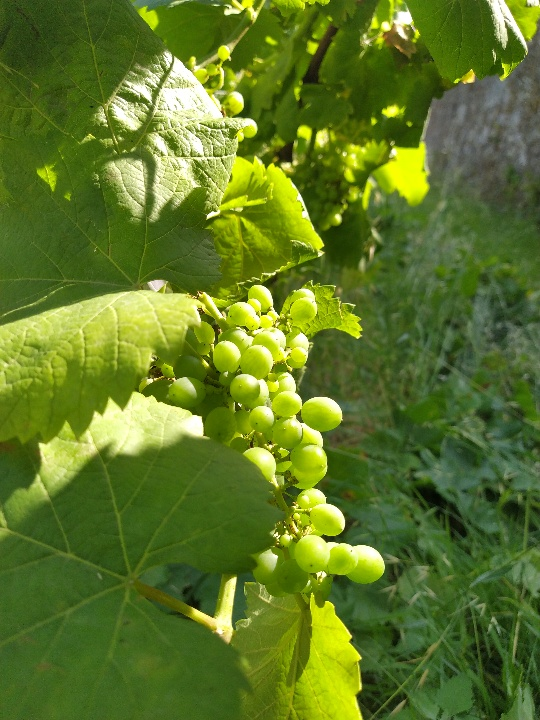grape: (137, 281, 391, 597)
